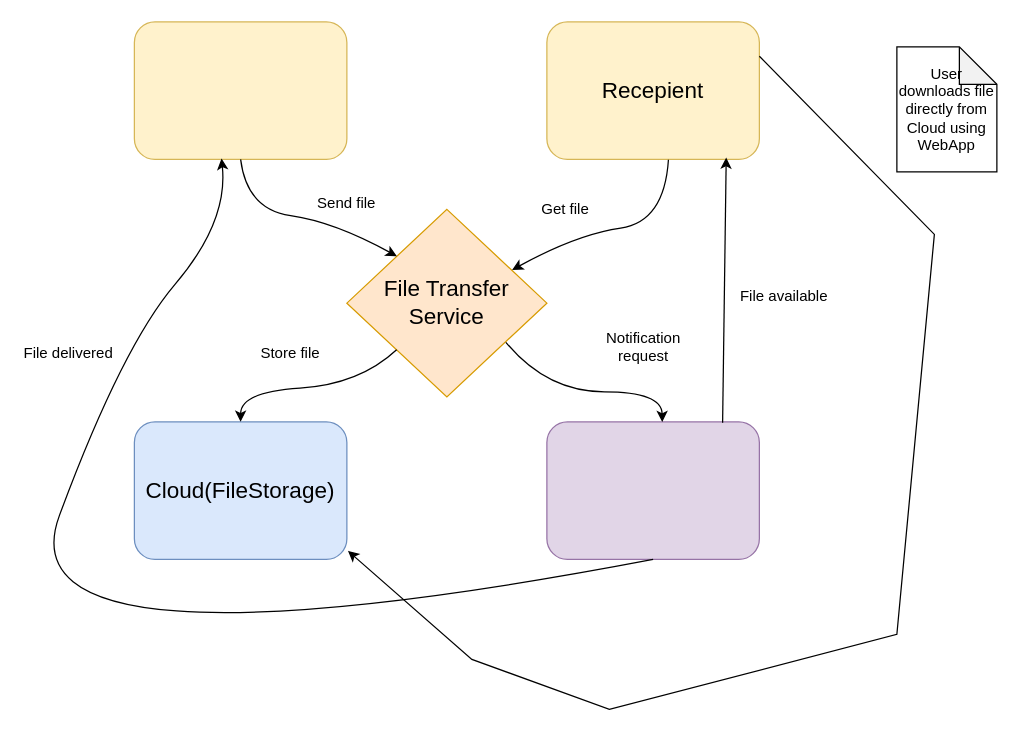
This 1019x741 diagram has some shape labels left out. Here are the shapes that lost their labels. From the top down, the box of each, then its label:
(133, 21, 347, 159): Sender
(546, 421, 759, 559): Email Service
